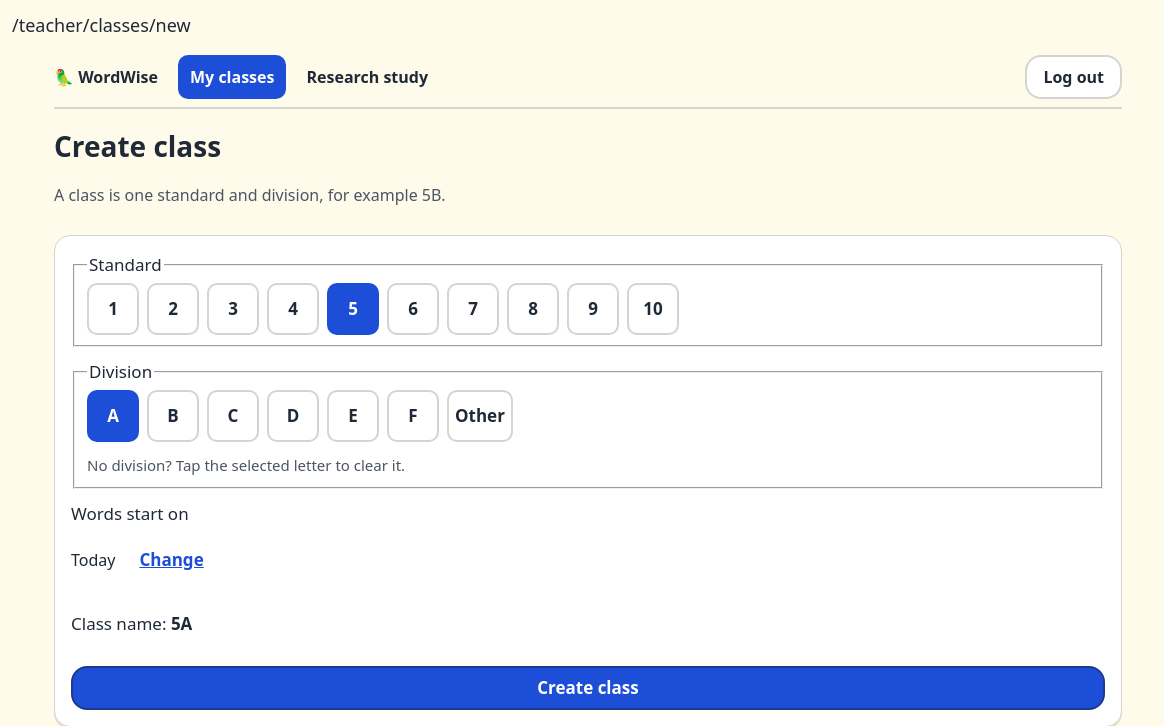
it: teacher app (mock API) › create class reports a duplicate class
Check: the text "Class name:" is shown, box [71,612,171,635]
Click the button "Create class".
click(588, 688)  # box [71,666,1105,710]
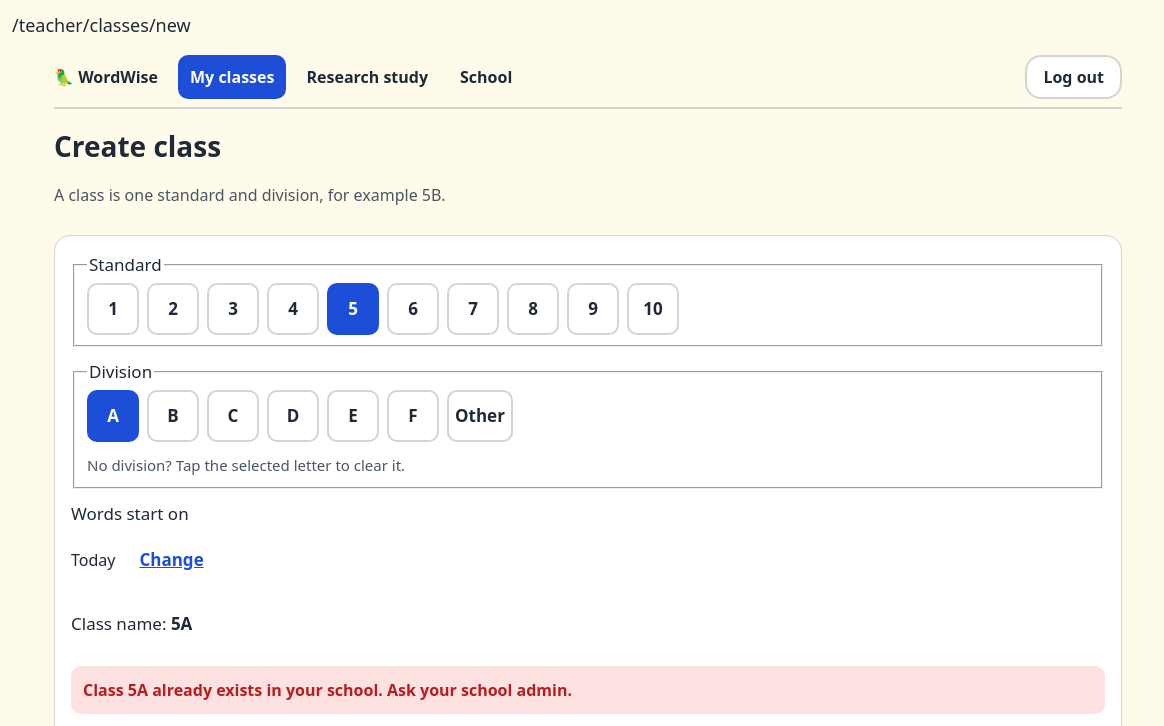
Check: the text "Class 5A already exists in your school. Ask your school admin." is shown, box [71,666,1105,714]
